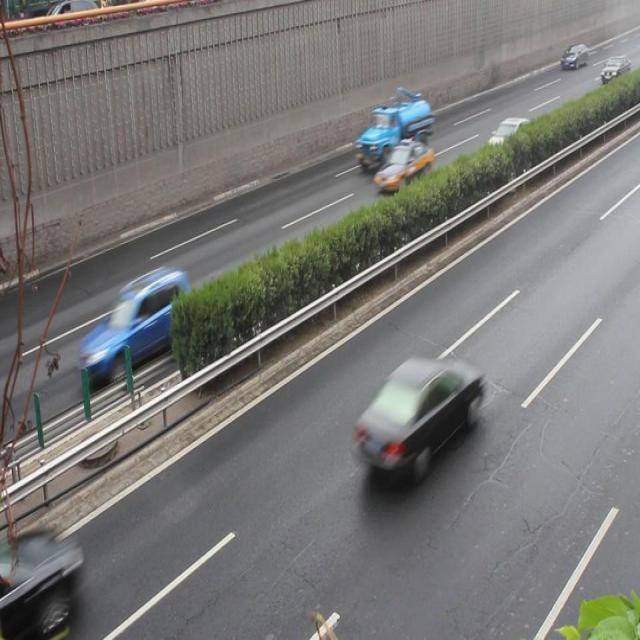bus: (357, 95, 429, 166)
car: (353, 359, 483, 471), (78, 270, 187, 378), (1, 532, 85, 640), (373, 140, 433, 195), (482, 117, 532, 165), (598, 56, 628, 89)
